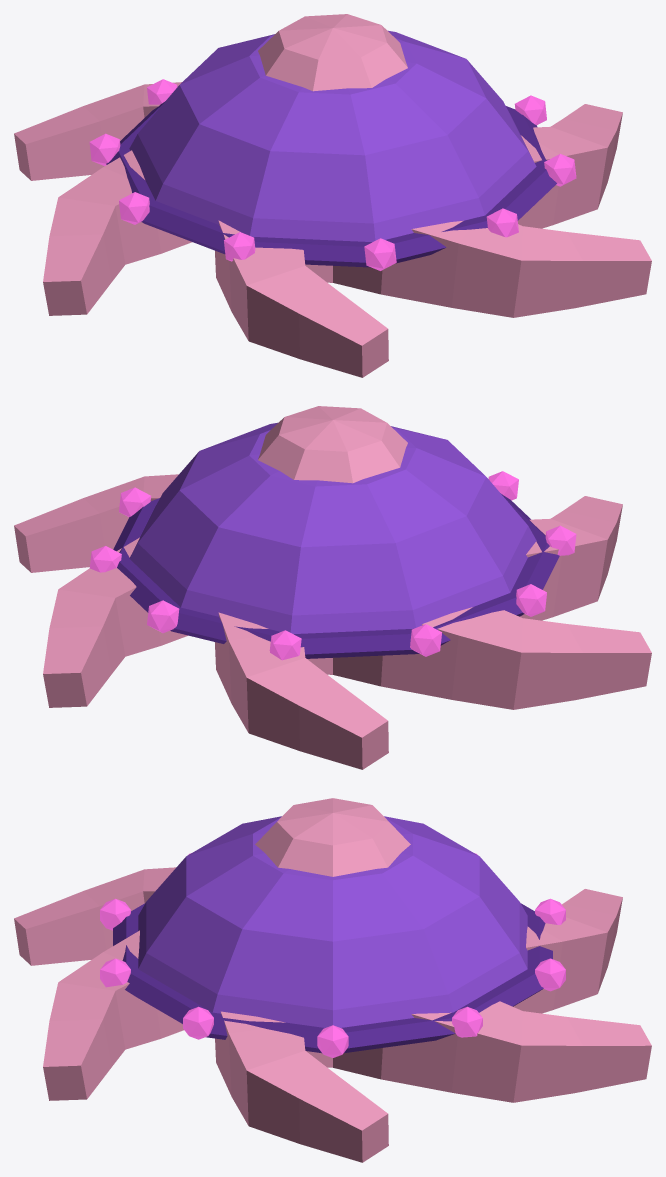
The model's file is alien_drifter.glb.
The picture shows the model from 3 angles, top to bottom: view 1: azimuth 30°, elevation 25°; view 2: azimuth 150°, elevation 25°; view 3: azimuth 270°, elevation 25°; orthographic projection.
Parts seen in each view (by area): view 1: alien_drifter, anim_skirt; view 2: alien_drifter, anim_skirt; view 3: alien_drifter, anim_skirt.
Part boxes in pixels (left/top/right/bottom): alien_drifter: left=89, top=14, right=576, bottom=270; anim_skirt: left=14, top=82, right=651, bottom=377; alien_drifter: left=89, top=406, right=576, bottom=660; anim_skirt: left=14, top=474, right=651, bottom=769; alien_drifter: left=100, top=798, right=565, bottom=1057; anim_skirt: left=14, top=867, right=651, bottom=1162.
Bounding box in the file's own units: 50.14 × 16.51 × 45.49.
2 materials, 2 textured.
